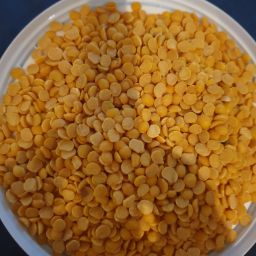Pigeon Pea(toor daal): (39, 5, 252, 191), (51, 63, 224, 256), (33, 123, 254, 246), (2, 30, 82, 256), (118, 86, 177, 116), (95, 25, 147, 57)
